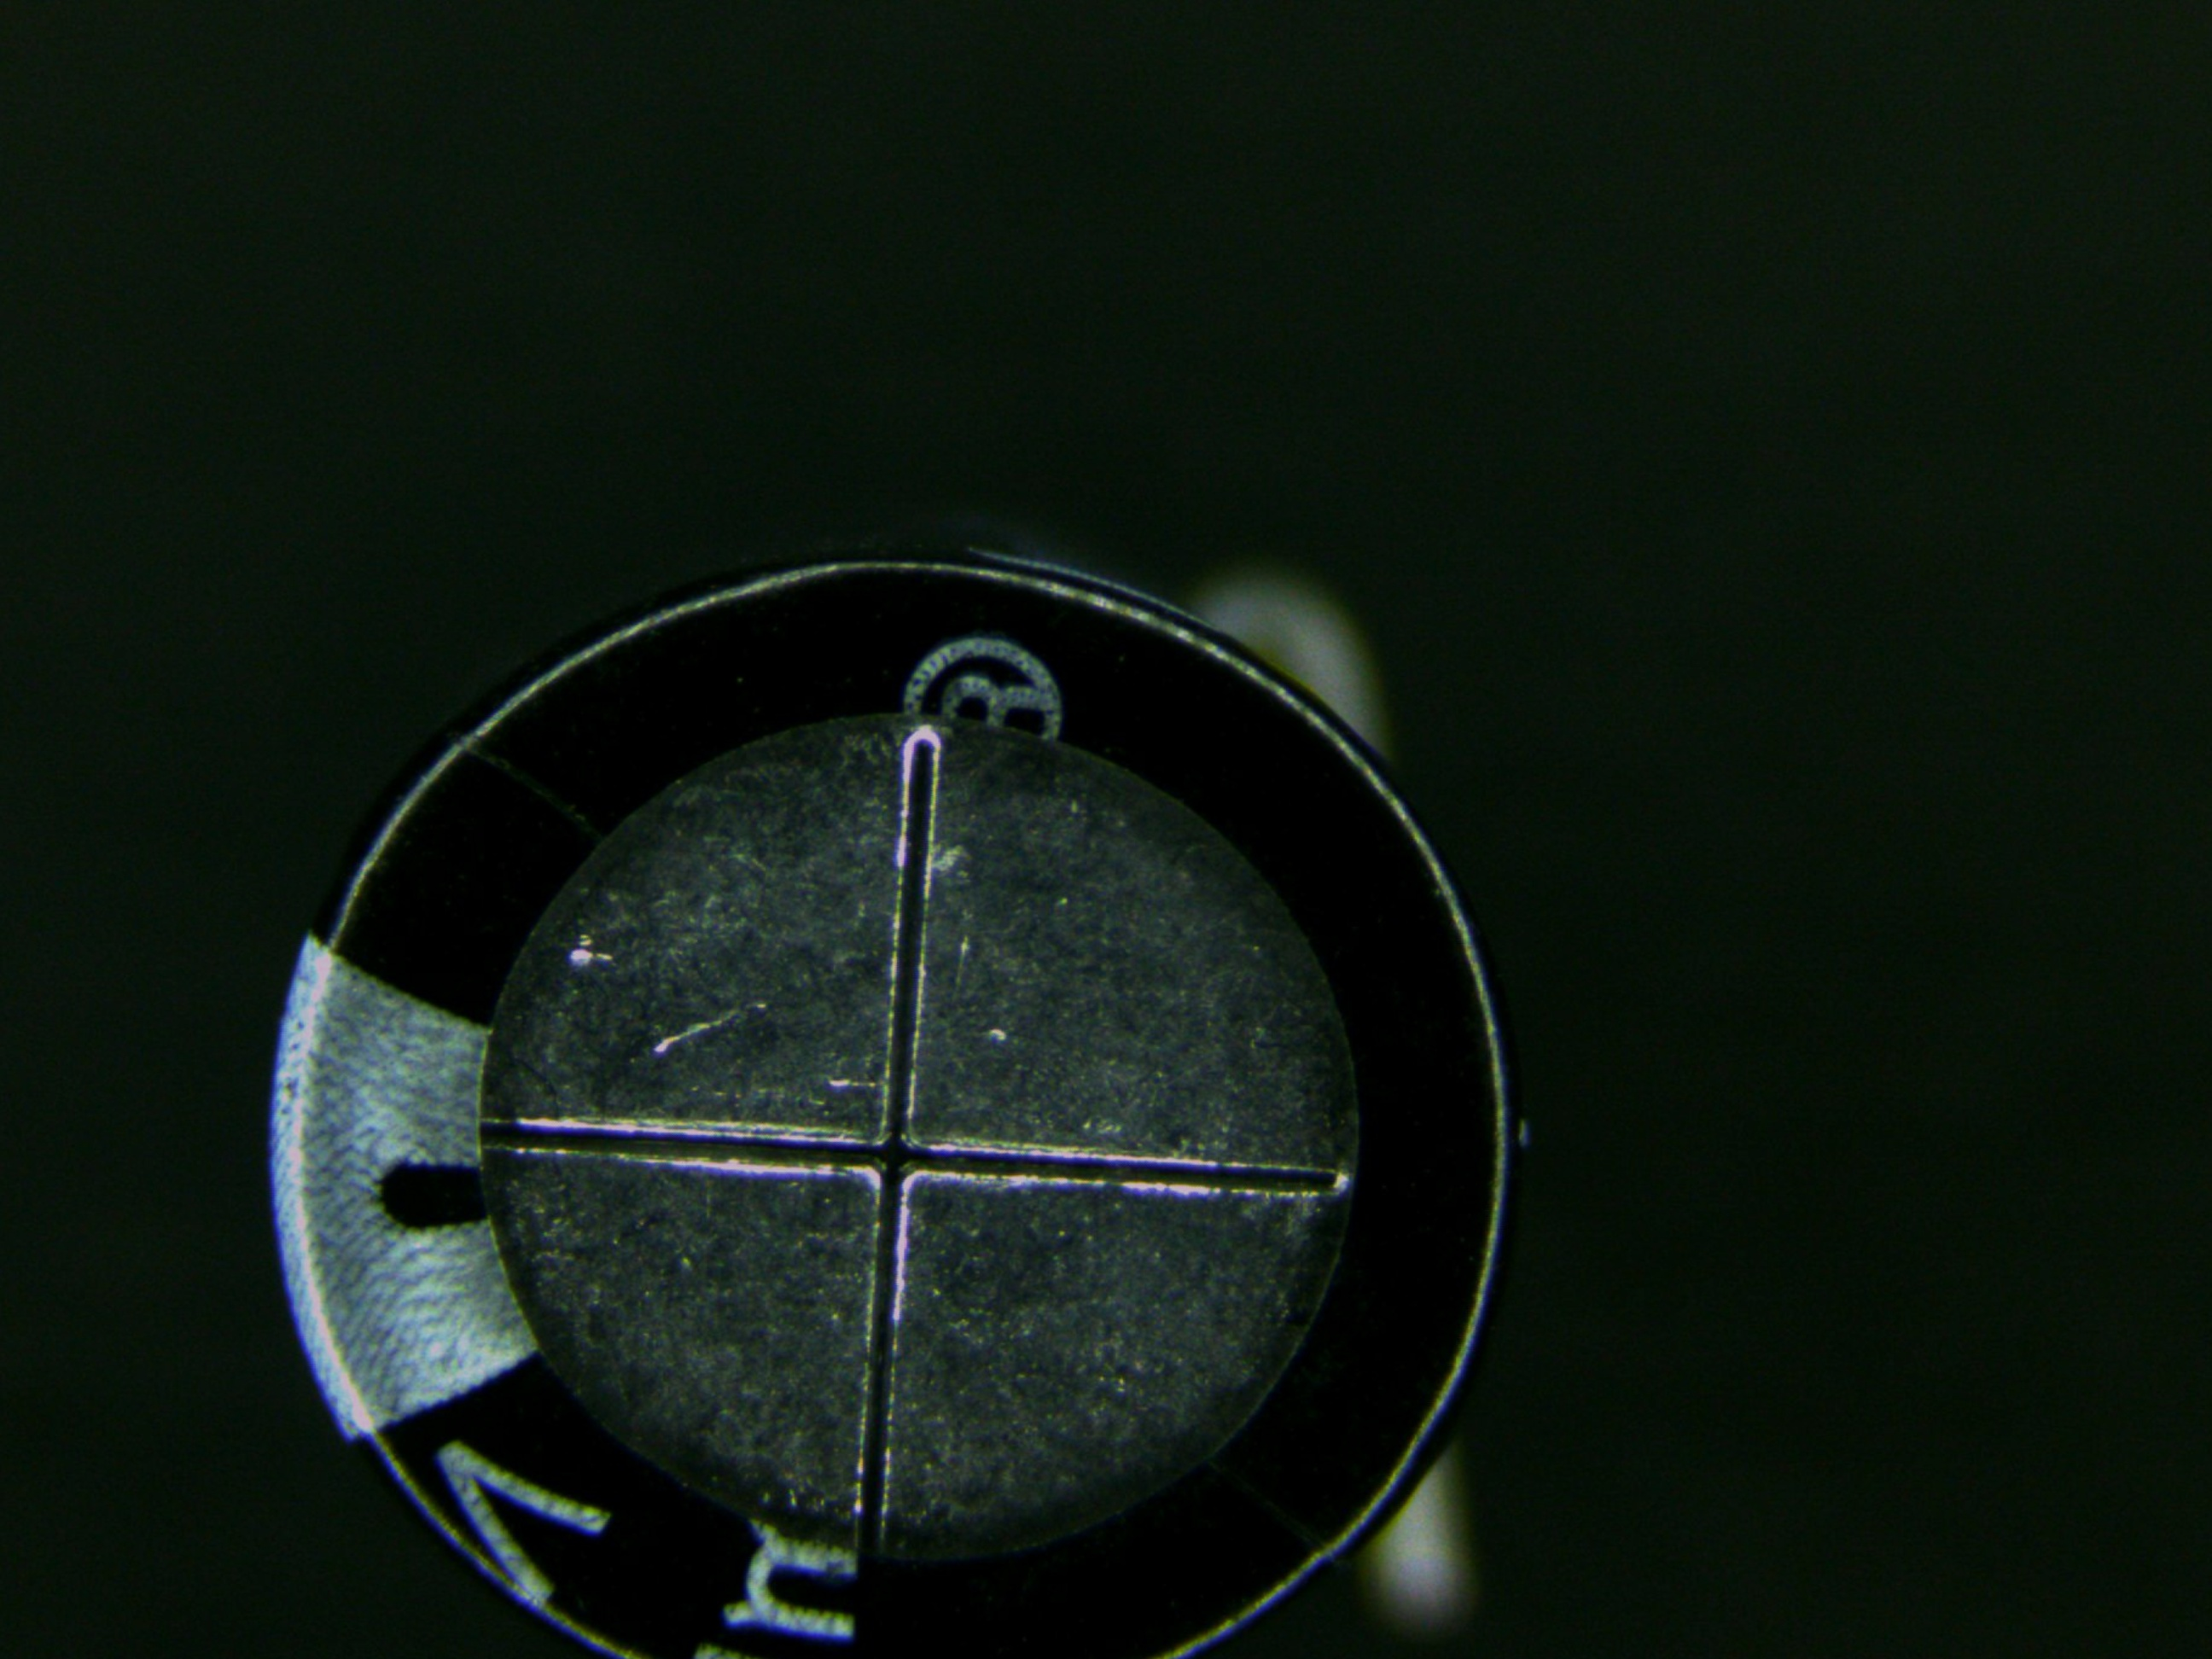c3: (260, 544, 1514, 1659)
